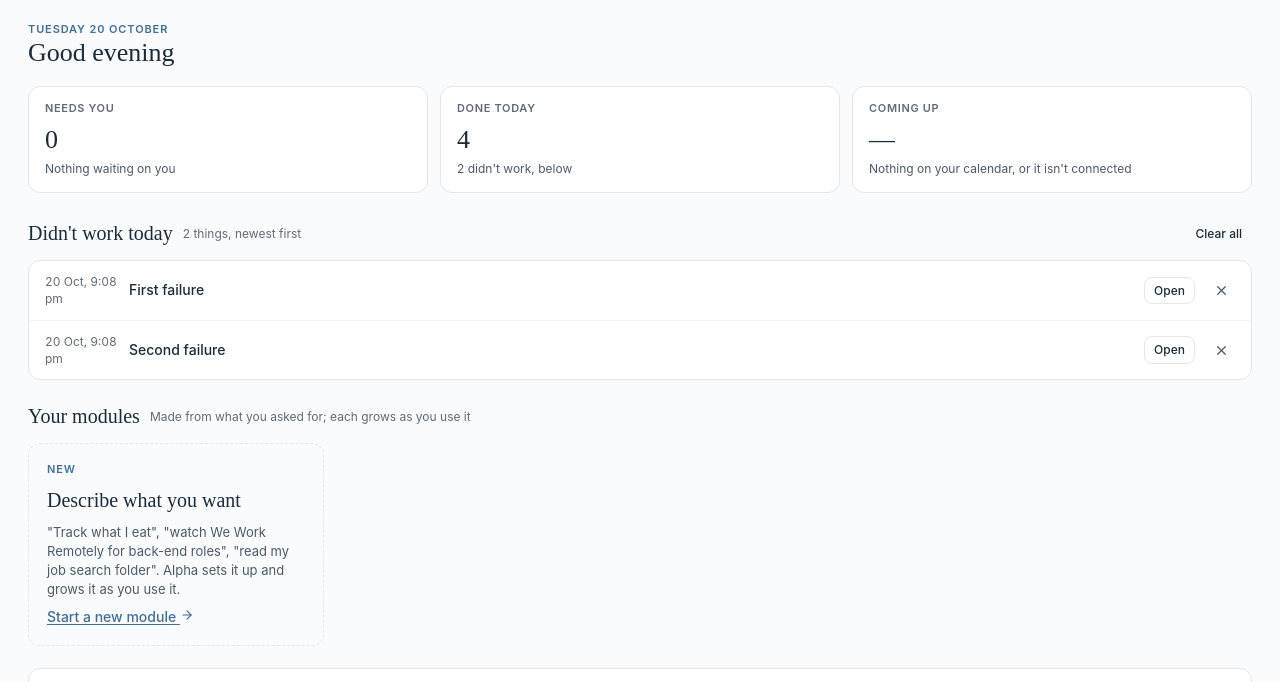
Test case: Home: didn't work today › Dismiss clears one from Home and Clear all the rest; the choice is remembered
The width and height of the screenshot is (1280, 682).
Check: the text "First failure" is shown, box top-left (129, 281), bottom-right (204, 298)
Click the button named "Dismiss" in the row of "First failure".
click(1221, 290)  # box top-left (1207, 276), bottom-right (1235, 304)
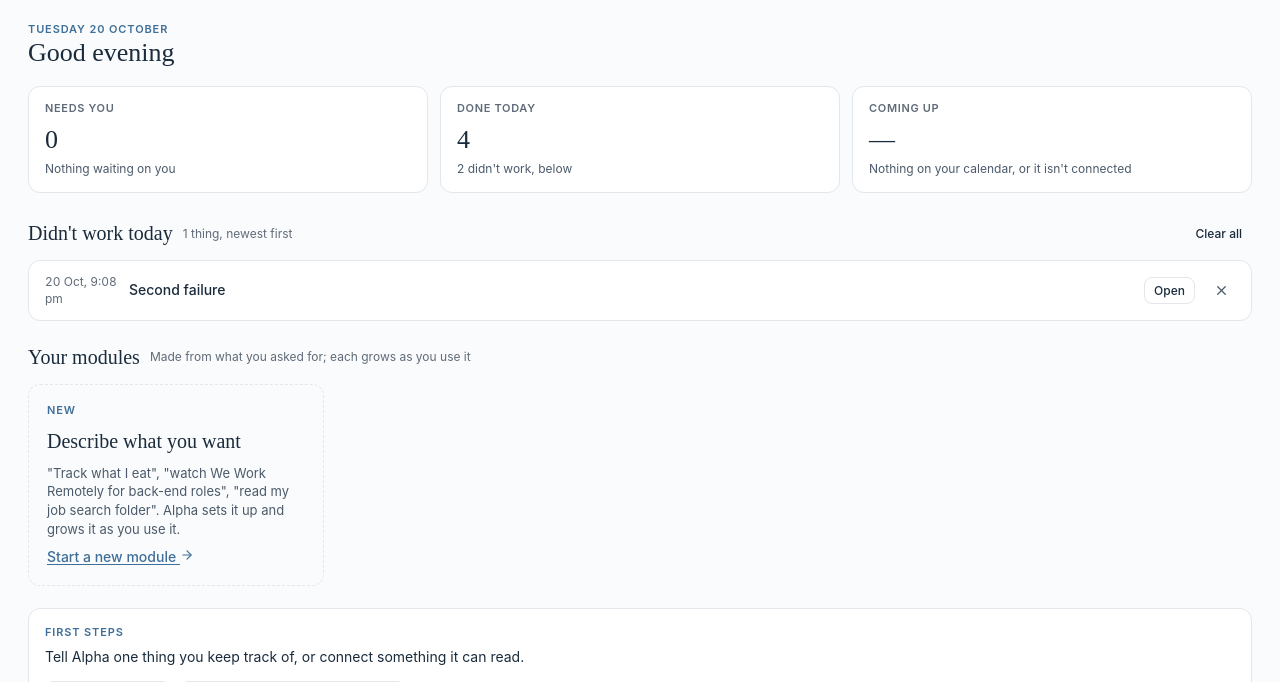
Check: the text "First failure" is gone
Click the button "Clear all".
click(1219, 233)  # box top-left (1186, 220), bottom-right (1252, 247)
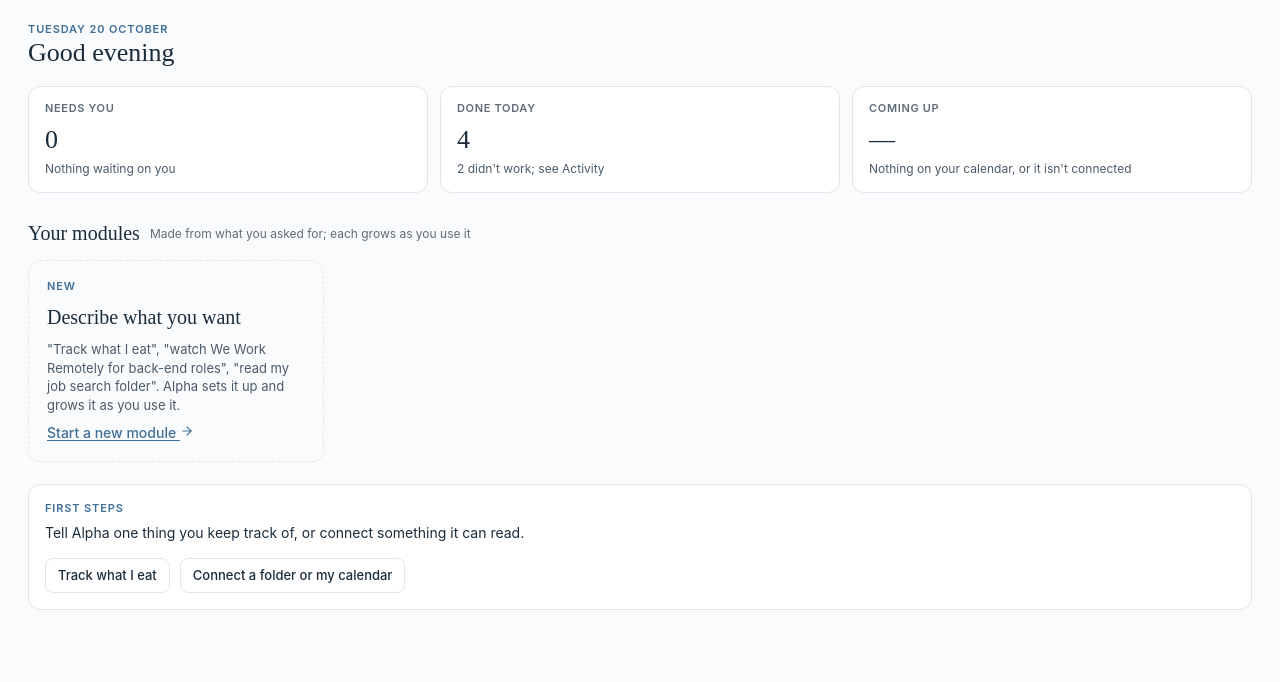
Check: the heading "Didn't work today" is gone
Check: the text "2 didn't work; see Activity" is shown, box top-left (457, 162), bottom-right (605, 176)
